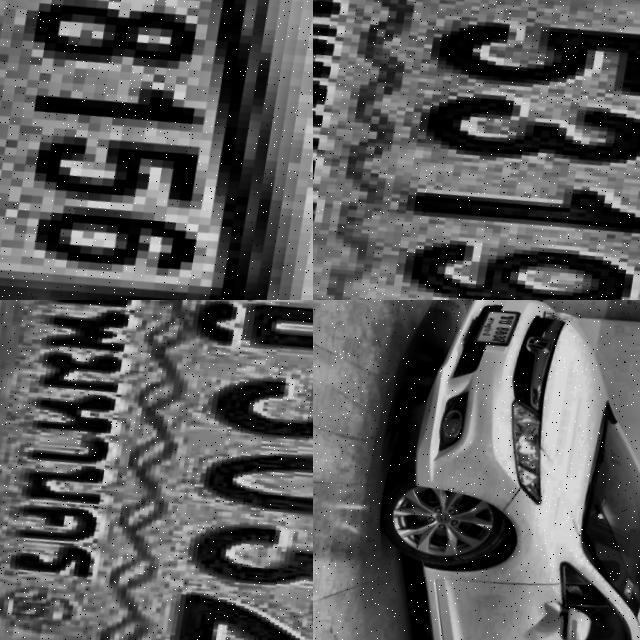license-plate: (0, 300, 313, 640), (313, 0, 640, 300), (0, 0, 313, 300), (462, 300, 525, 359)
